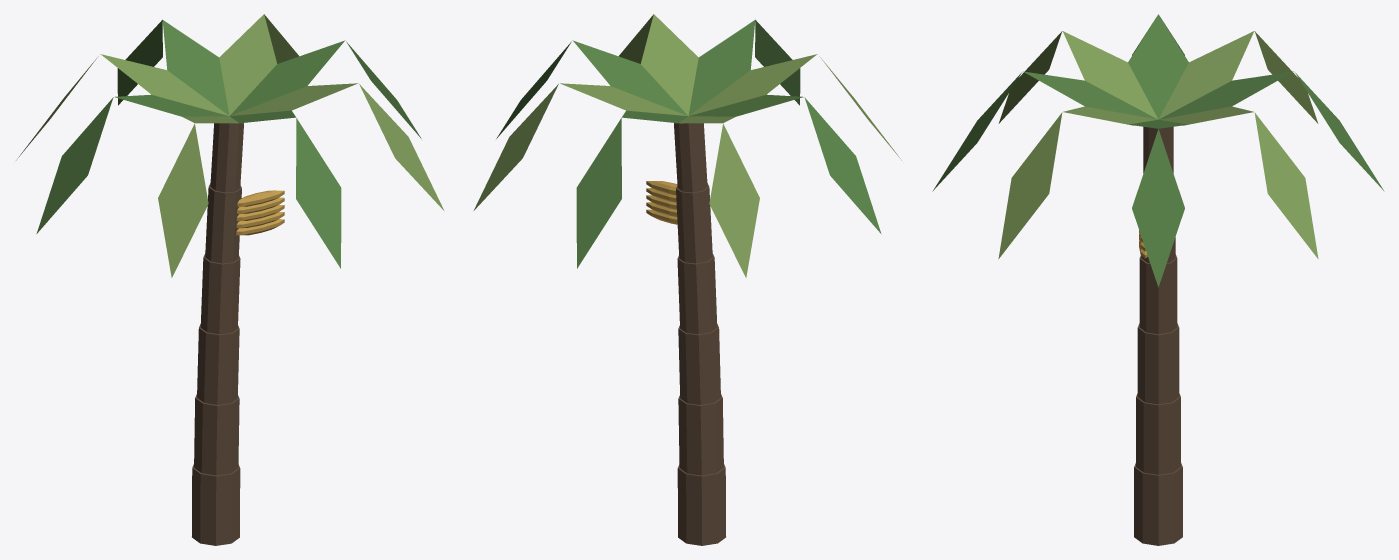
Rendered from nature-banana.lod0.glb.
3 renders of one model, left to right at view 1: azimuth 30°, elevation 25°; view 2: azimuth 150°, elevation 25°; view 3: azimuth 270°, elevation 25°, orthographic.
Parts seen in each view (by area): view 1: nature-banana__body; view 2: nature-banana__body; view 3: nature-banana__body.
Part boxes in pixels (x1=…): nature-banana__body: x1=16, y1=14, x2=444, y2=545; nature-banana__body: x1=473, y1=14, x2=901, y2=545; nature-banana__body: x1=932, y1=14, x2=1384, y2=545.
Bounding box in the file's own units: 3.4 × 3.9 × 3.4.
